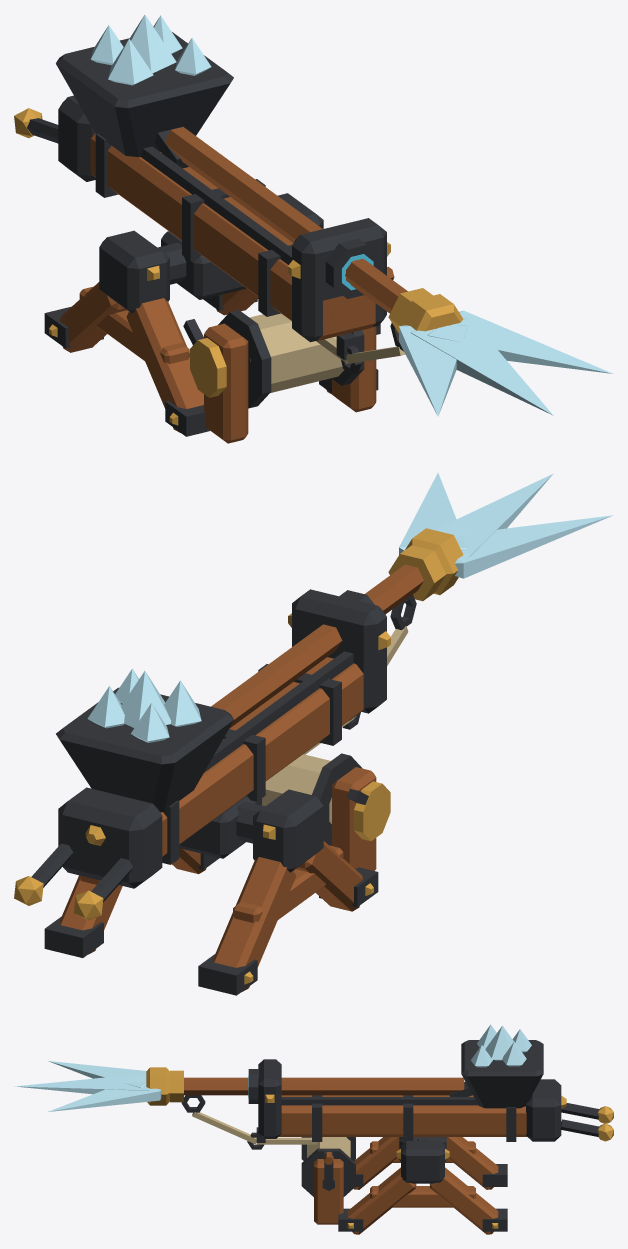
The model's file is HarpoonB2.obj.
3 views of the same model, one above another, from view 1: azimuth 30°, elevation 25°; view 2: azimuth 150°, elevation 25°; view 3: azimuth 270°, elevation 25° (orthographic). The views are drawn at different scales.
Parts seen in each view (by area): view 1: HarpoonB2; view 2: HarpoonB2; view 3: HarpoonB2.
Boxes of the visible parts, x1,y1,x2,y2 form: HarpoonB2: (14,15,612,443); HarpoonB2: (14,472,612,995); HarpoonB2: (14,1024,613,1234).
Bounding box in the file's own units: 0.567 × 0.8265 × 2.45.
